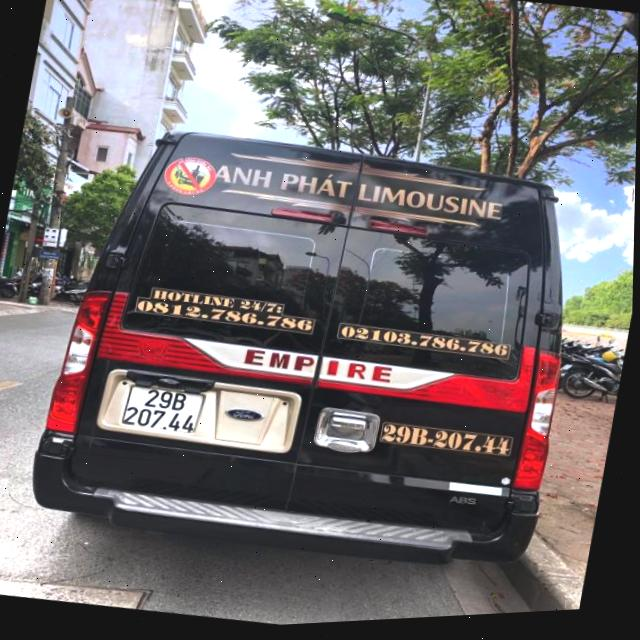car: (24, 77, 615, 609)
motorcycle: (560, 338, 625, 405)
plate: (105, 370, 228, 453)
